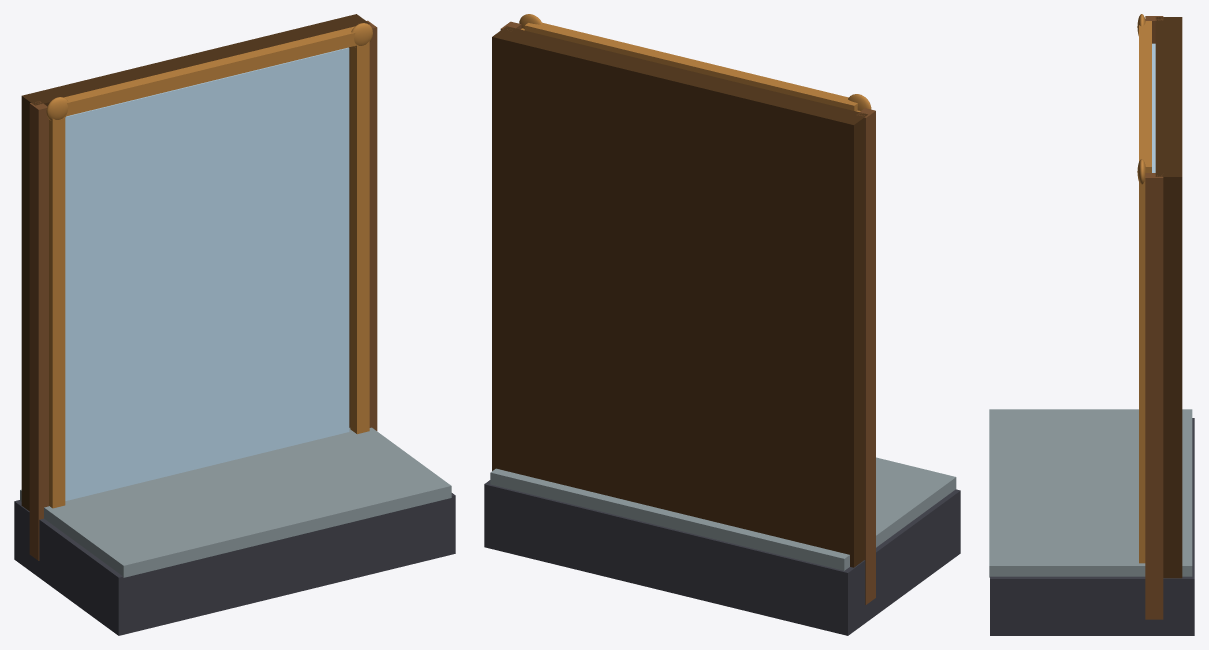
The model's file is mia-mirror.glb.
The picture shows the model from 3 angles, left to right: view 1: azimuth 30°, elevation 25°; view 2: azimuth 150°, elevation 25°; view 3: azimuth 270°, elevation 25°; orthographic projection. The views are drawn at different scales.
Parts seen in each view (by area): view 1: Body_mirror-silver, Body_steel, Body_stone, Body_brass, Body_oak, Body_wood; view 2: Body_wood, Body_stone, Body_steel, Body_oak, Body_brass; view 3: Body_steel, Body_wood, Body_stone, Body_oak, Body_brass, Body_mirror-silver.
Part boxes in pixels (x1,y1,x2,y2): Body_mirror-silver: (65,47,349,500); Body_steel: (20,427,451,577); Body_stone: (14,493,455,635); Body_brass: (46,23,372,508); Body_oak: (29,20,377,560); Body_wood: (21,14,369,511); Body_wood: (492,26,867,567); Body_stone: (484,480,960,635); Body_steel: (490,457,956,570); Body_oak: (500,21,875,604); Body_brass: (519,14,871,111); Body_steel: (989,409,1192,577); Body_wood: (1155,17,1182,578); Body_stone: (990,418,1194,635); Body_oak: (1145,16,1163,619); Body_brass: (1137,14,1151,563); Body_mirror-silver: (1152,43,1155,172).
Size of the model in its own units: 0.705 by 0.951 by 0.3785.
